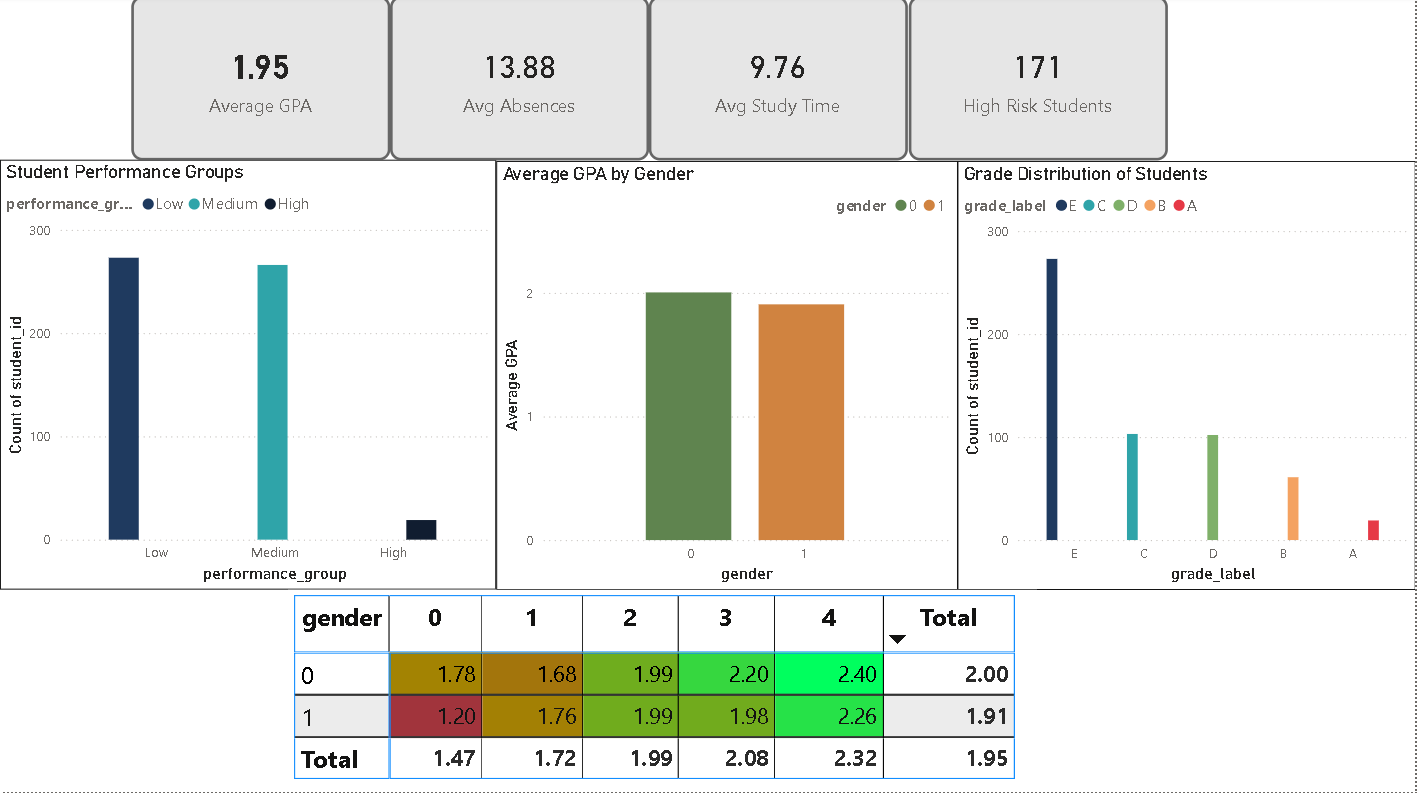

Layout of this report page (visuals, bound fields, positions):
{"tool":"powerbi","page":{"name":"Performance overview","canvas":[1280,720],"ordinal":0},"visuals":[{"type":"clusteredColumnChart","fields":{"Category":["Students.grade_label"],"Y":["CountNonNull(Students.student_id)"],"Series":["Students.grade_label"]},"box":[865.6,148.9,414.4,387.8],"z":0},{"type":"card","fields":{"Values":["Students.Average GPA"]},"box":[118.6,0,234.3,148.6],"z":1000},{"type":"card","fields":{"Values":["Students.Avg Absences"]},"box":[352.9,0,234.3,148.6],"z":2000},{"type":"card","fields":{"Values":["Students.Avg Study Time"]},"box":[587.1,0,234.3,148.6],"z":3000},{"type":"card","fields":{"Values":["Students.High Risk Students"]},"box":[821.4,0,234.3,148.6],"z":4000},{"type":"clusteredColumnChart","fields":{"Category":["Students.performance_group"],"Y":["CountNonNull(Students.student_id)"],"Series":["Students.performance_group"]},"box":[0,148.6,448.6,388.6],"z":5000},{"type":"columnChart","fields":{"Category":["Students.gender"],"Y":["Students.Average GPA"],"Series":["Students.gender"]},"box":[448.6,148.6,417.1,388.6],"z":6000},{"type":"pivotTable","fields":{"Rows":["Students.gender"],"Columns":["Students.parental_support"],"Values":["Students.Average GPA"]},"box":[261.4,537.1,677.1,182.9],"z":8000}]}

Visuals, with their boxes in screenshot pixels (x1, y1, x2, y2), scaled from the page's 1280x720 canvas onto the 1418x793 screenshot:
clusteredColumnChart - Students.grade_label x CountNonNull(Students.student_id): crop(959, 164, 1417, 591)
card - Students.Average GPA: crop(131, 0, 391, 164)
card - Students.Avg Absences: crop(391, 0, 651, 164)
card - Students.Avg Study Time: crop(650, 0, 910, 164)
card - Students.High Risk Students: crop(910, 0, 1170, 164)
clusteredColumnChart - Students.performance_group x CountNonNull(Students.student_id): crop(0, 164, 497, 592)
columnChart - Students.gender x Students.Average GPA: crop(497, 164, 959, 592)
pivotTable - Students.gender x Students.parental_support: crop(290, 592, 1040, 792)
